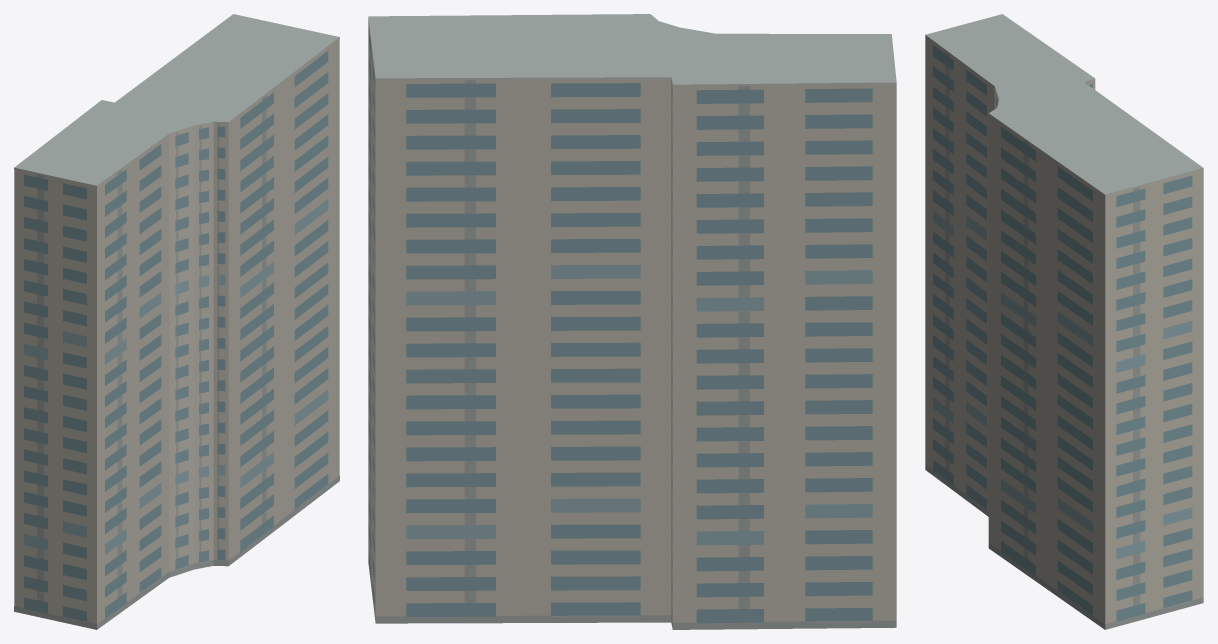
Rendered from survey-upis-32823393.glb.
3 renders of one model, left to right at view 1: azimuth 30°, elevation 25°; view 2: azimuth 150°, elevation 25°; view 3: azimuth 270°, elevation 25°, orthographic. The views are drawn at different scales.
Parts seen in each view (by area): view 1: survey-upis-32823393.tmp; view 2: survey-upis-32823393.tmp; view 3: survey-upis-32823393.tmp.
Boxes of the visible parts, bbox=[...] form: survey-upis-32823393.tmp: bbox=[14, 14, 339, 629]; survey-upis-32823393.tmp: bbox=[368, 14, 896, 629]; survey-upis-32823393.tmp: bbox=[925, 14, 1203, 629].
Bounding box in the file's own units: 57.06 × 64.05 × 37.11.
